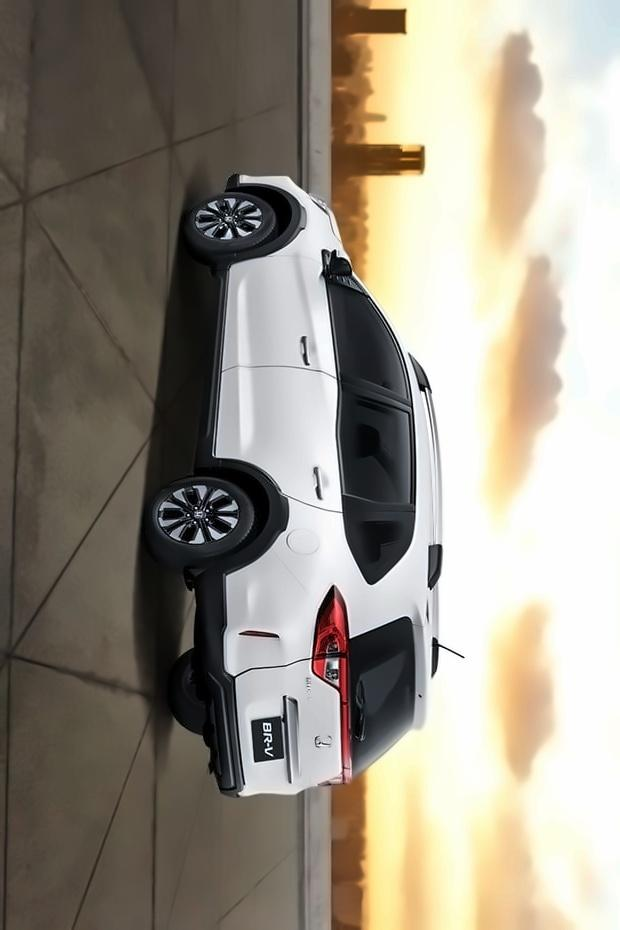Car boot: (235, 616, 433, 792)
Fender - -F-L-: (212, 184, 345, 277)
Fender - -R-L-: (233, 483, 386, 634)
Front bumper: (215, 166, 311, 211)
Headlight - -L-: (298, 188, 351, 236)
Passenger-s door - -F-L-: (219, 249, 425, 400)
Passenger-s door - -R-L-: (215, 366, 432, 518)
Rear bumper: (189, 564, 281, 796)
Rear light - -L-: (309, 570, 358, 710)
Side bumper - -L-: (188, 243, 239, 485)
Side mirror - -L-: (301, 240, 355, 283)
